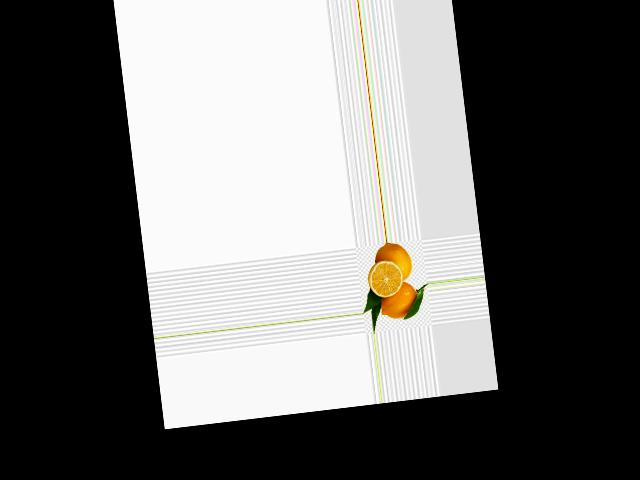lemon: (370, 240, 412, 282)
